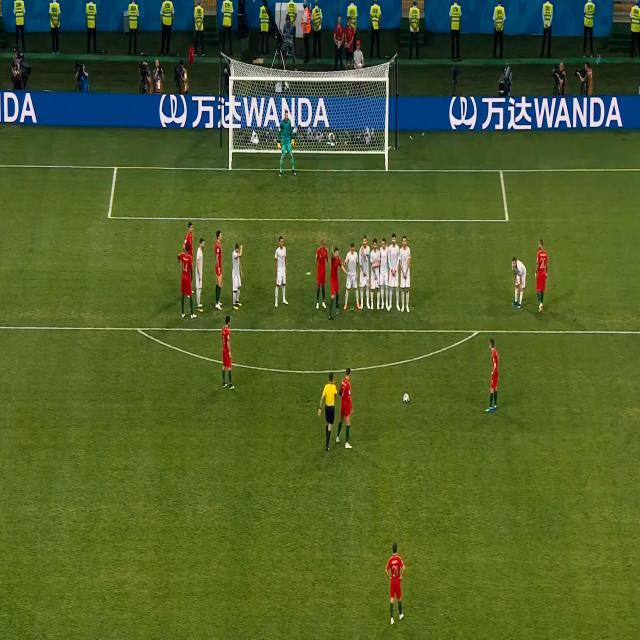ball: (402, 389, 411, 405)
player: (382, 538, 409, 626), (273, 108, 302, 179), (317, 368, 340, 450), (337, 363, 357, 452), (176, 245, 197, 321), (218, 314, 238, 391), (532, 235, 551, 313), (484, 336, 502, 413), (272, 233, 290, 308), (342, 240, 360, 313), (313, 238, 330, 310), (398, 233, 413, 314), (508, 253, 528, 310), (328, 245, 344, 316), (386, 232, 400, 311), (212, 226, 225, 311), (230, 240, 244, 310), (358, 237, 371, 310), (194, 235, 206, 311), (378, 236, 389, 309), (370, 239, 381, 310), (183, 220, 196, 252)
